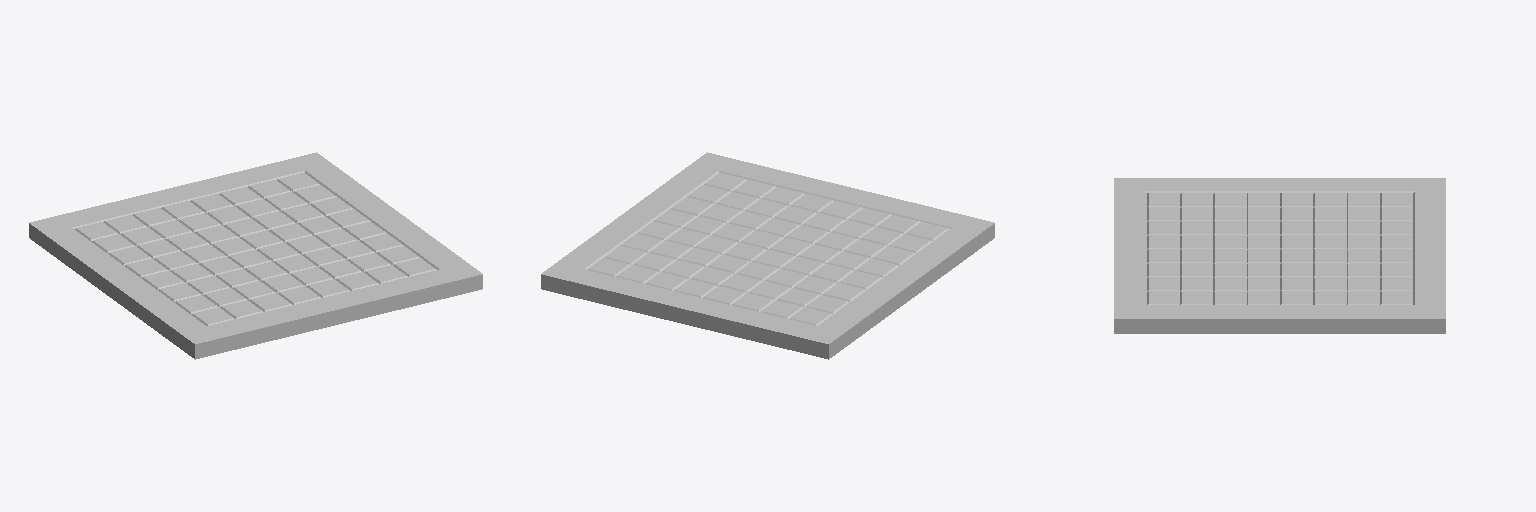
File: Board.obj
3 renders of one model, left to right at view 1: azimuth 30°, elevation 25°; view 2: azimuth 150°, elevation 25°; view 3: azimuth 270°, elevation 25°, orthographic.
Parts seen in each view (by area): view 1: Board(Low); view 2: Board(Low); view 3: Board(Low).
Boxes of the visible parts, x1=… form: Board(Low): x1=29, y1=152, x2=482, y2=359; Board(Low): x1=541, y1=152, x2=994, y2=359; Board(Low): x1=1114, y1=178, x2=1445, y2=333.
Bounding box in the file's own units: 2 × 0.1 × 2.